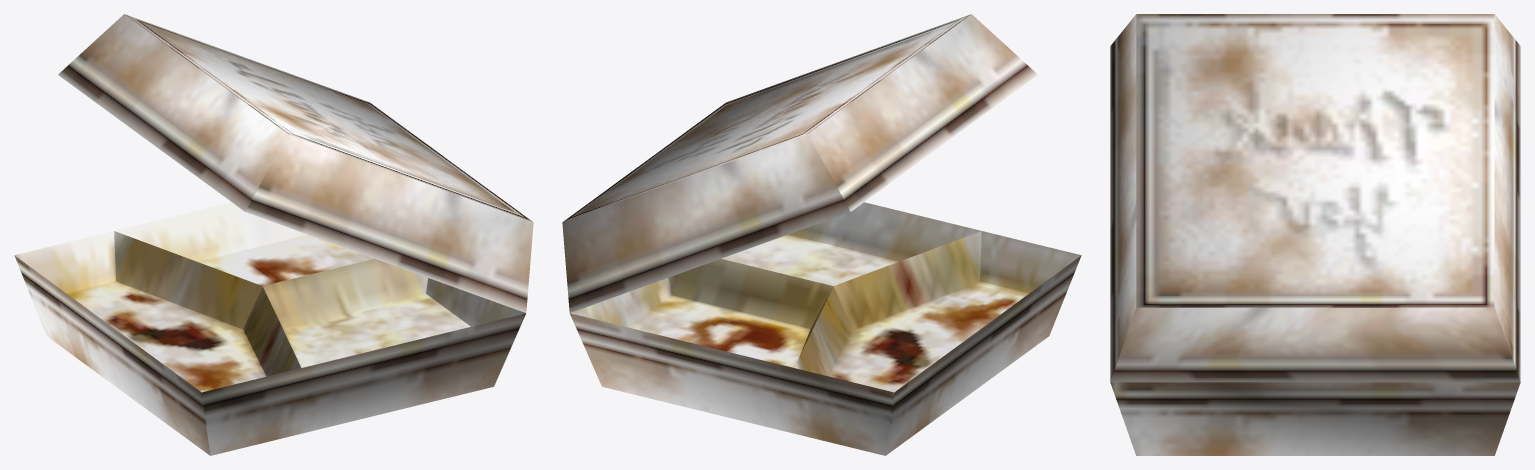
File: food_container.fbx
3 renders of one model, left to right at view 1: azimuth 30°, elevation 25°; view 2: azimuth 150°, elevation 25°; view 3: azimuth 270°, elevation 25°, orthographic. The views are drawn at different scales.
Visible parts, largest first — view 1: mesh_0; view 2: mesh_0; view 3: mesh_0.
Boxes of the visible parts, bbox=[...] form: mesh_0: bbox=[14, 14, 533, 455]; mesh_0: bbox=[562, 14, 1081, 455]; mesh_0: bbox=[1110, 14, 1520, 455].
Size of the model in its own units: 27.08 by 22.83 by 25.58.
1 material, 1 textured.
